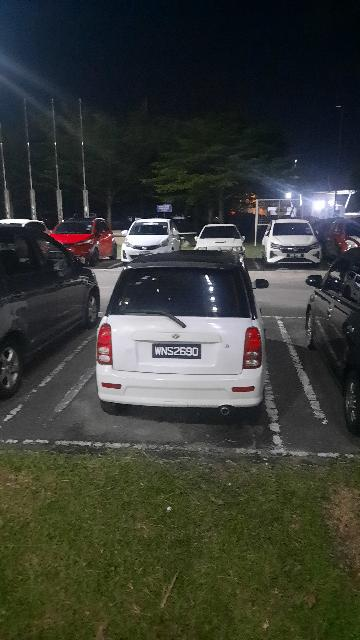License_Plate: (154, 341, 203, 363)
car: (94, 252, 270, 418)
